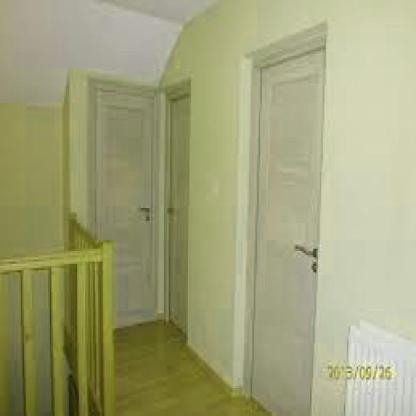door: (239, 17, 331, 409), (74, 62, 161, 335), (161, 69, 199, 345)
